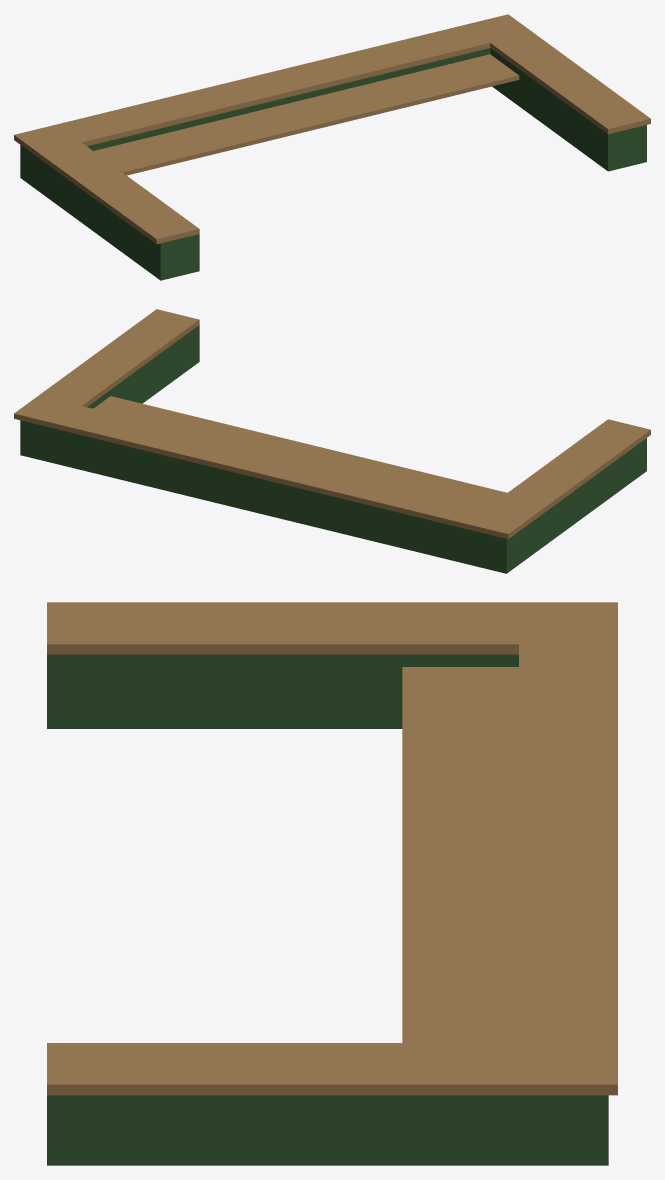
The model's file is Desk.glb.
3 renders of one model, top to bottom at view 1: azimuth 30°, elevation 25°; view 2: azimuth 150°, elevation 25°; view 3: azimuth 270°, elevation 25°, orthographic. The views are drawn at different scales.
Visible parts, largest first — view 1: Cube; view 2: Cube; view 3: Cube.
Boxes of the visible parts, x1,y1,x2,y2 form: Cube: [14, 14, 650, 280]; Cube: [14, 309, 650, 573]; Cube: [47, 602, 617, 1165].
Size of the model in its own units: 12.2 by 1 by 6.1.
